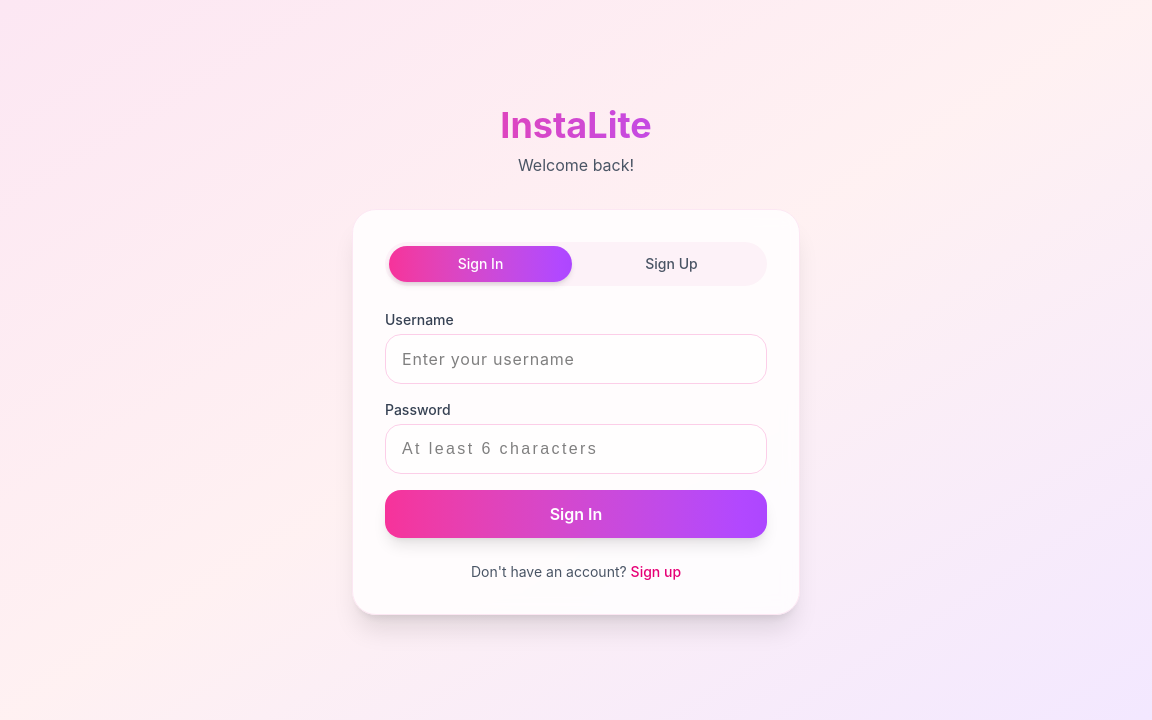
Scenario: Authentication › can switch to register mode
Click the button "Sign Up" at point(672, 264), box [580,246,763,282]
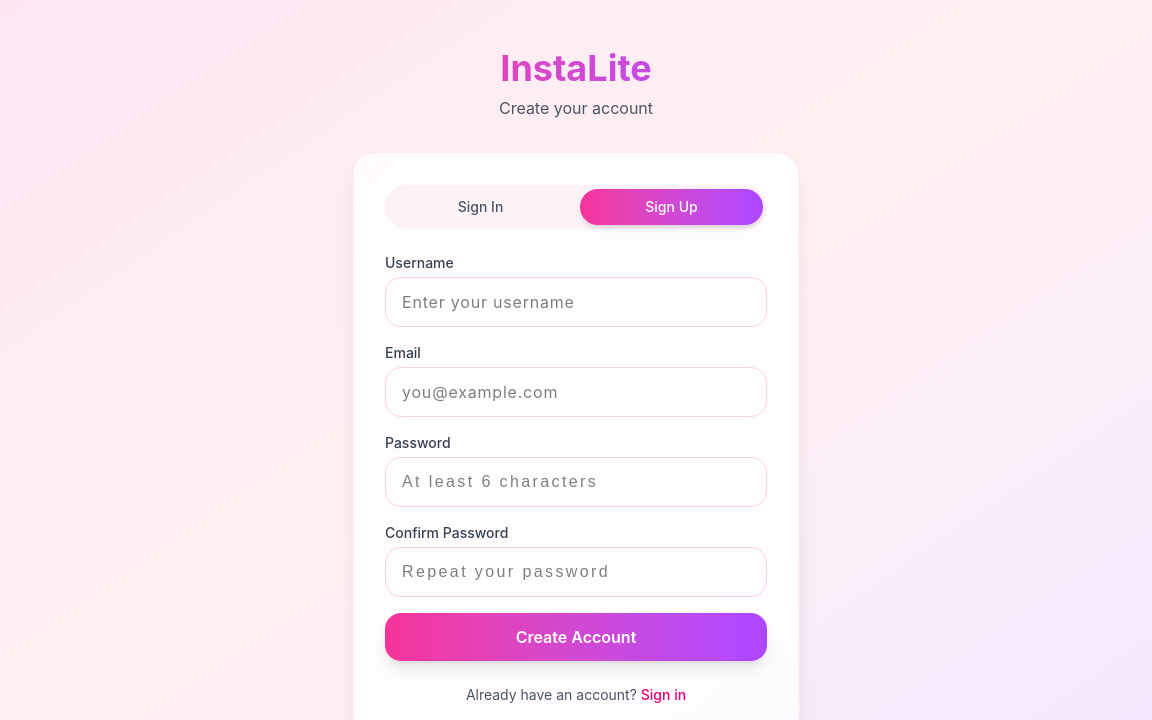
Check: the text "Create your account" is shown, box [499,98,653,118]
Check: the field with id "email" is shown, box [385,367,767,417]
Check: the password field with id "confirmPassword" is shown, box [385,547,767,597]
